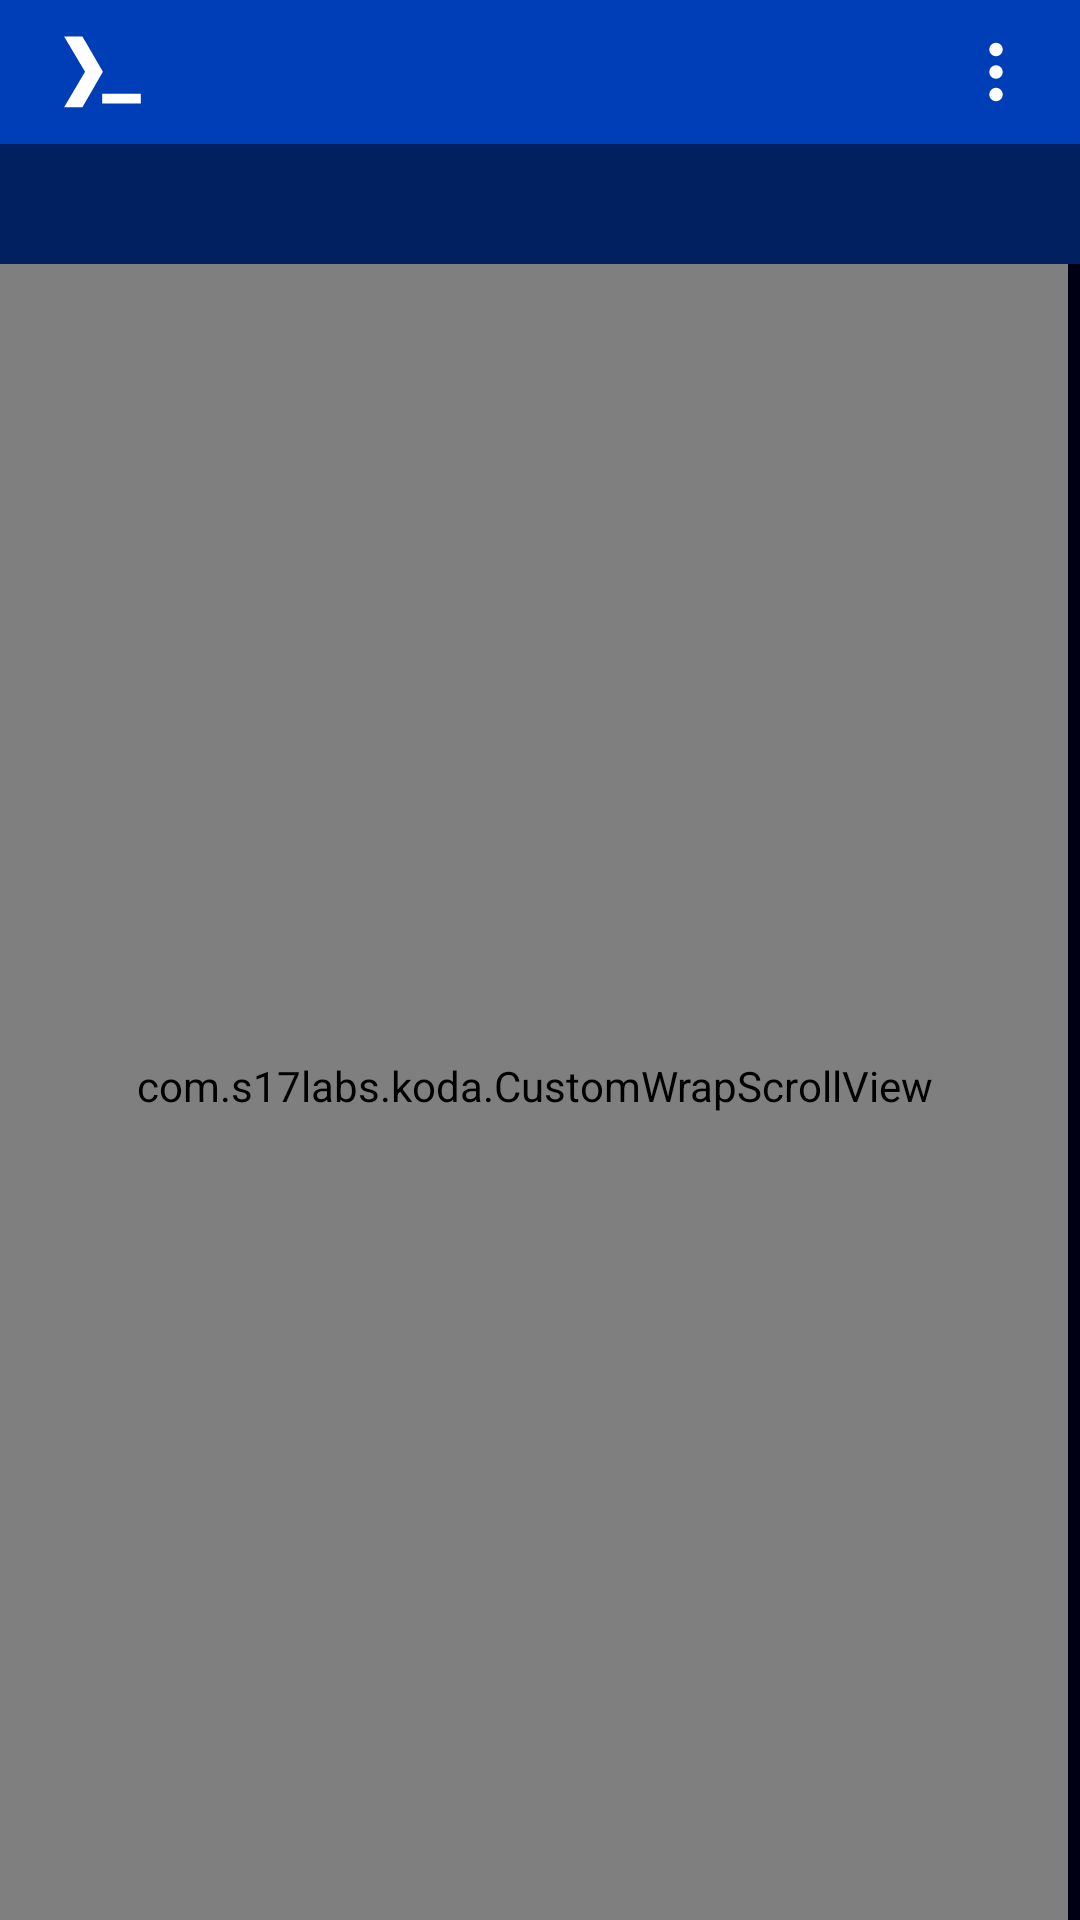

Screen size 1080 × 1920. Icon name, then its box in pixels as (x1, y1, x2, y2):
Menu: (989, 42, 1003, 102)
